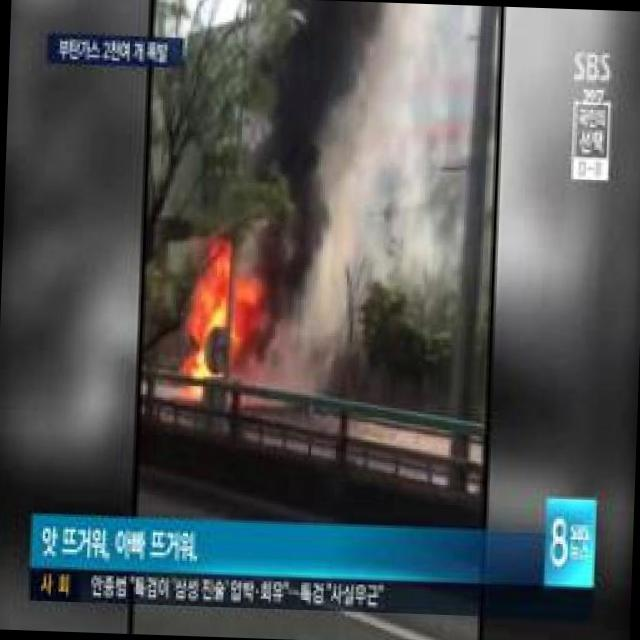Fire: (174, 243, 264, 405)
Smoke: (260, 0, 471, 398)
